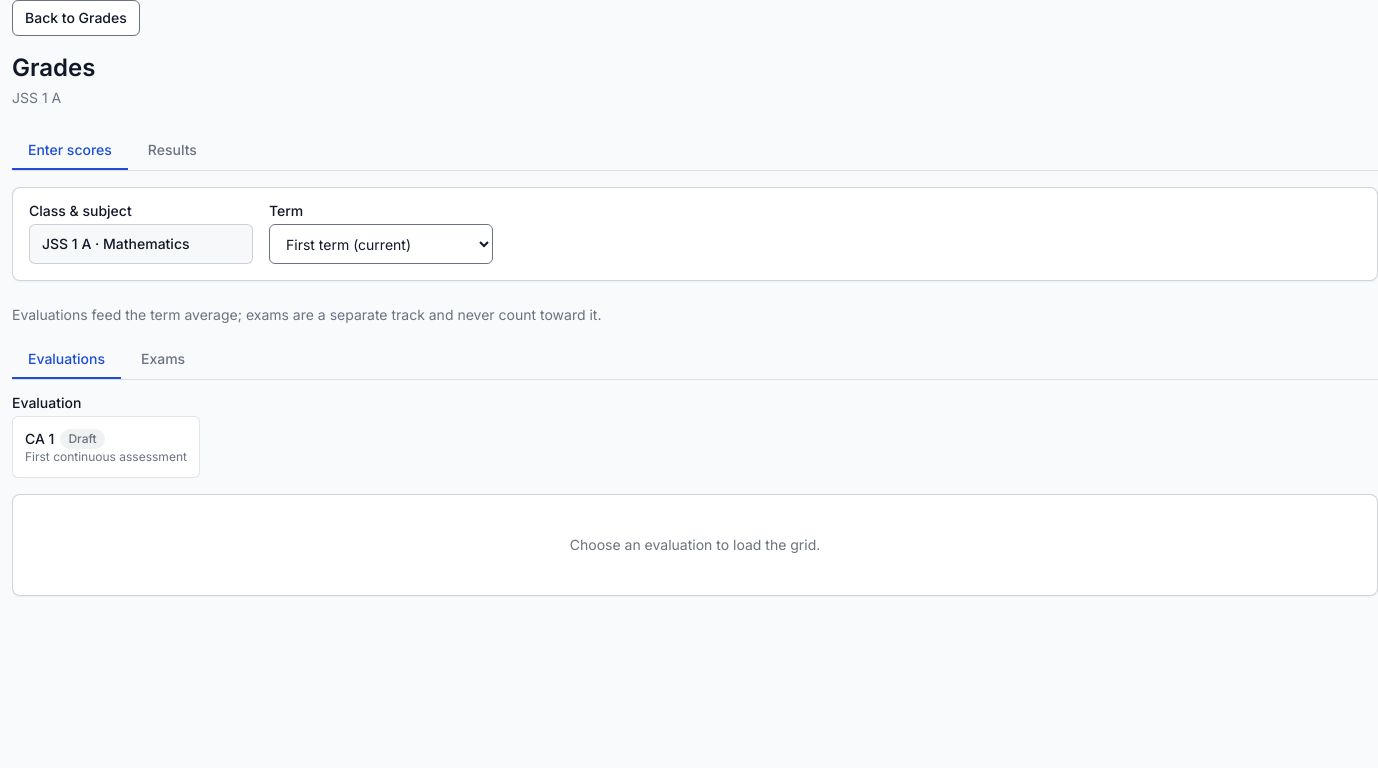
ClassGradesPage — Enter scores tab › switching the track tab to Exams shows the exam list instead of evaluations
The image size is (1378, 768).
expect the button "CA 1 Draft First continuous assessment" is shown: met, box [12,416,200,478]
Click the tab "Exams". click: (163, 360)
box: [125,341,201,379]
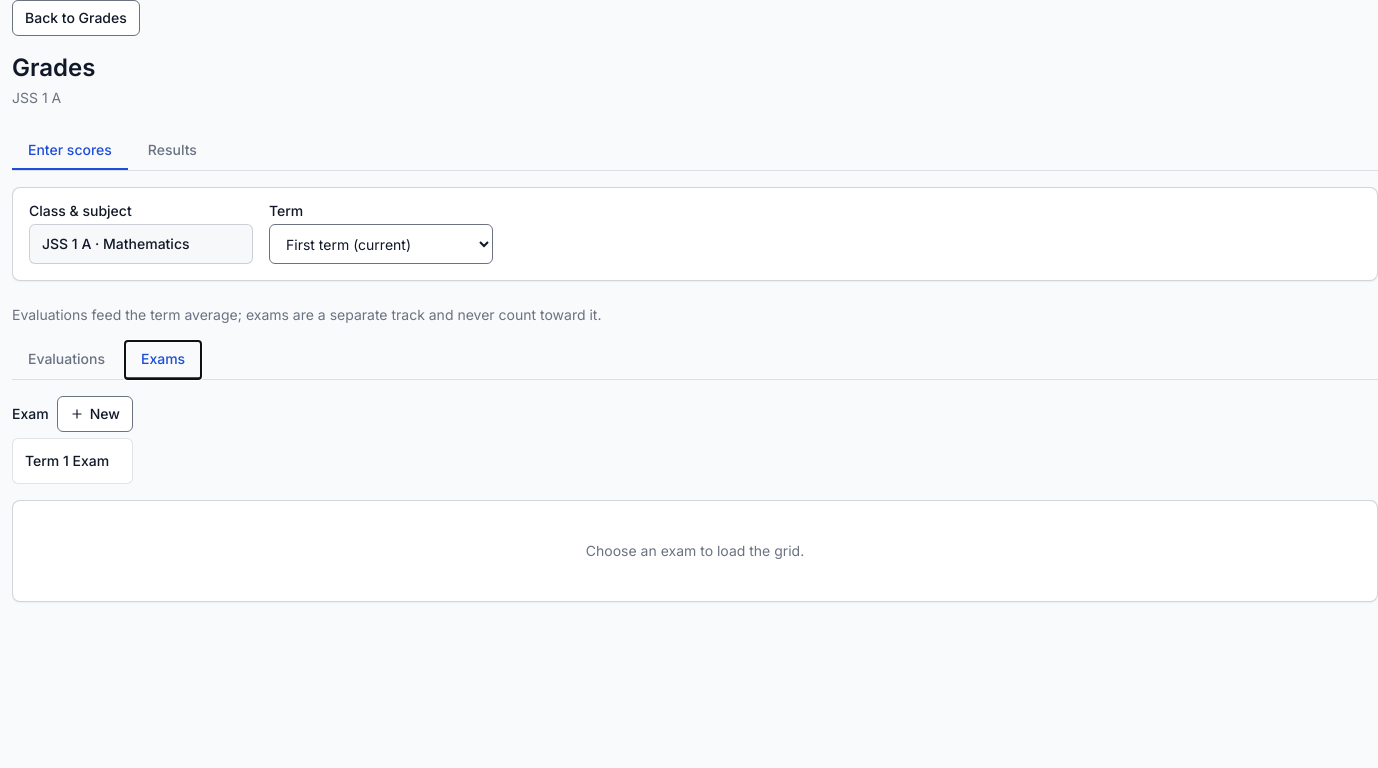
expect the button "Term 1 Exam" is shown: met, box [12,438,133,484]
expect the button "CA 1" is gone: met
